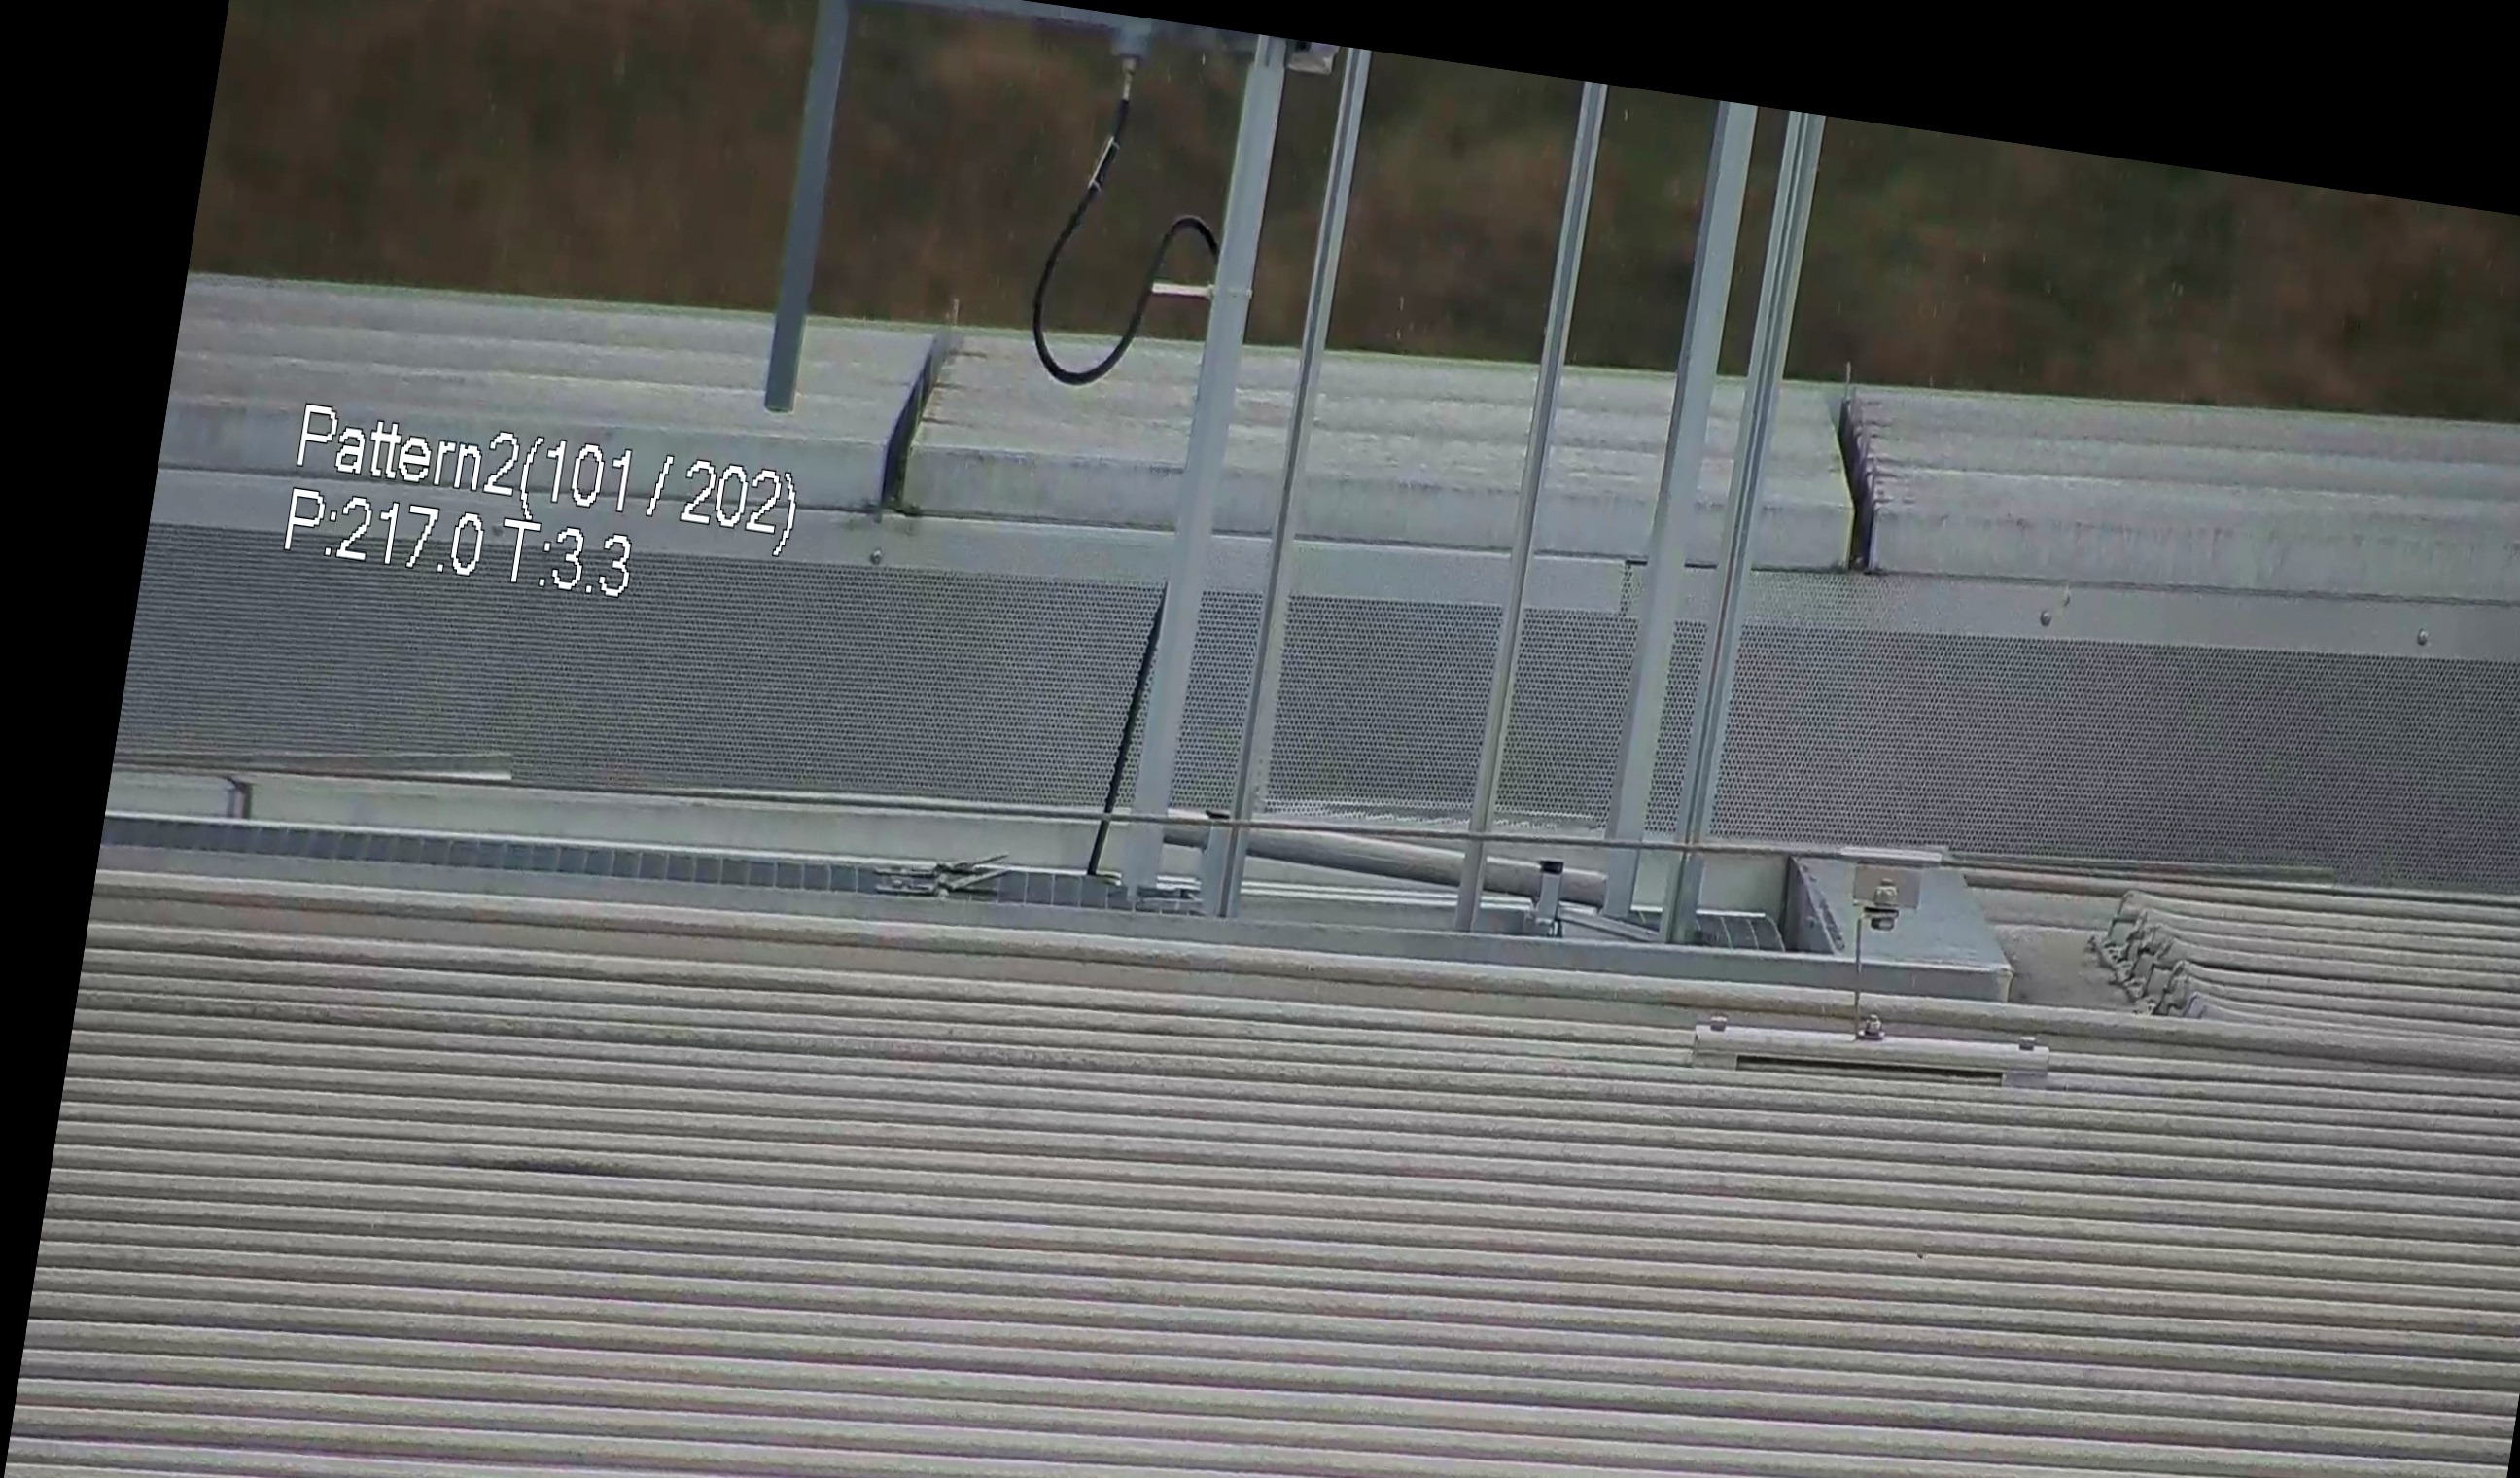Other: (1790, 345, 1931, 586)
